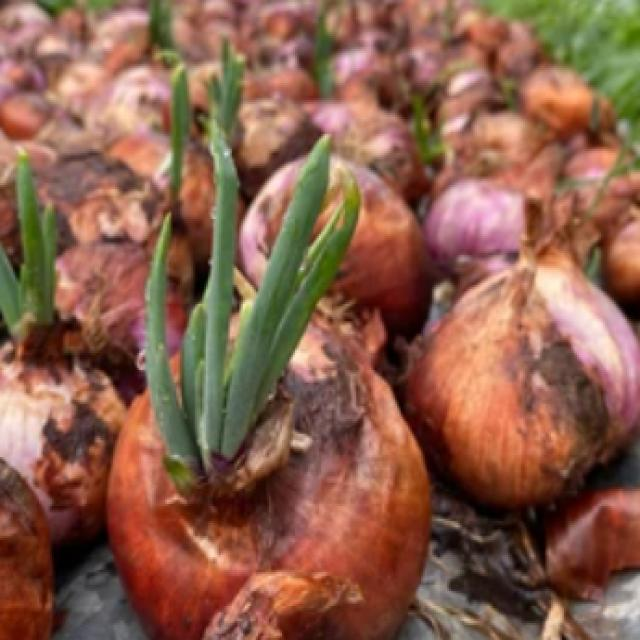sprouting: (124, 260, 306, 500)
